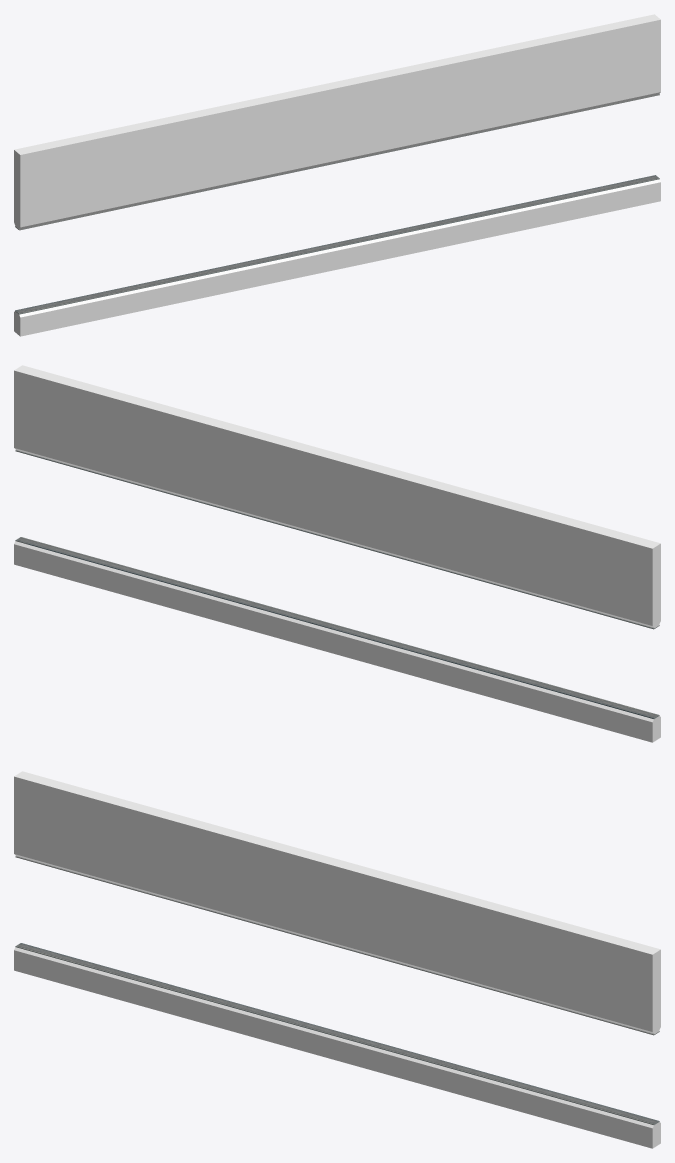
Rendered from Enclosure3RIghtSide 1.fbx.
The picture shows the model from 3 angles, top to bottom: view 1: azimuth 30°, elevation 25°; view 2: azimuth 150°, elevation 25°; view 3: azimuth 330°, elevation 25°; orthographic projection. The views are drawn at different scales.
Parts seen in each view (by area): view 1: Enclosure3RIght_LOW, Enclosure3RIghtSTONE_LOW; view 2: Enclosure3RIght_LOW, Enclosure3RIghtSTONE_LOW; view 3: Enclosure3RIght_LOW, Enclosure3RIghtSTONE_LOW.
Part boxes in pixels (bbox=[...]): Enclosure3RIght_LOW: bbox=[14, 14, 660, 336]; Enclosure3RIghtSTONE_LOW: bbox=[15, 94, 659, 314]; Enclosure3RIght_LOW: bbox=[14, 365, 660, 742]; Enclosure3RIghtSTONE_LOW: bbox=[15, 450, 659, 718]; Enclosure3RIght_LOW: bbox=[14, 771, 660, 1148]; Enclosure3RIghtSTONE_LOW: bbox=[15, 856, 659, 1124].
Size of the model in its own units: 1795 by 502 by 143.
2 materials, 2 textured.
